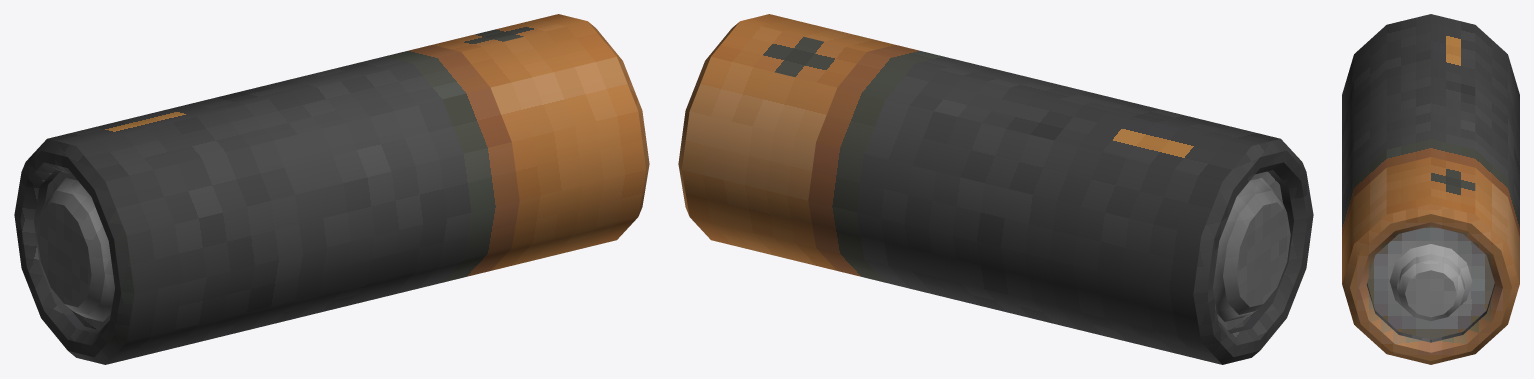
Rendered from battery_4.obj.
3 renders of one model, left to right at view 1: azimuth 30°, elevation 25°; view 2: azimuth 150°, elevation 25°; view 3: azimuth 270°, elevation 25°, orthographic. The views are drawn at different scales.
Parts seen in each view (by area): view 1: battery_4; view 2: battery_4; view 3: battery_4.
Part boxes in pixels (<box>): battery_4: <box>14,14,649,364</box>; battery_4: <box>678,14,1313,364</box>; battery_4: <box>1342,14,1519,364</box>.
Bounding box in the file's own units: 0.0976 × 0.036 × 0.036.
